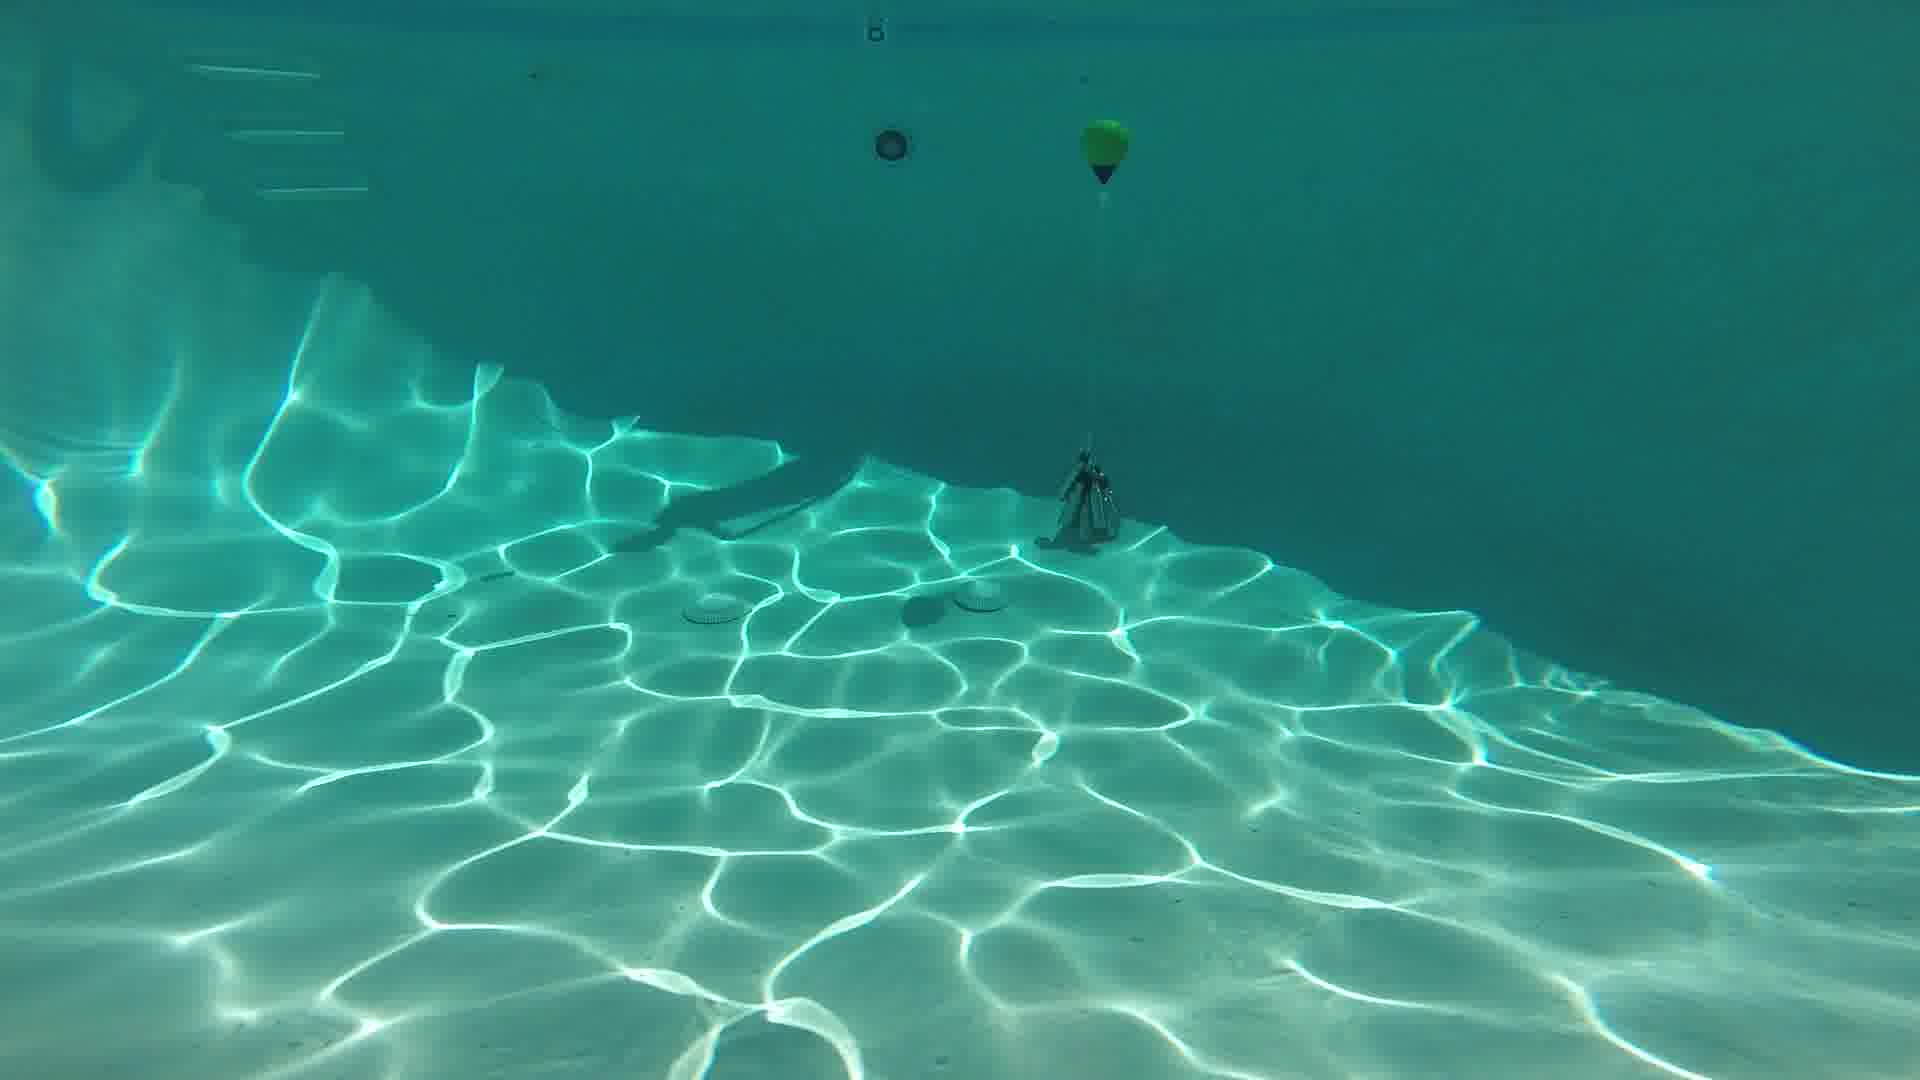yellow_buoy: (1083, 120, 1127, 189)
